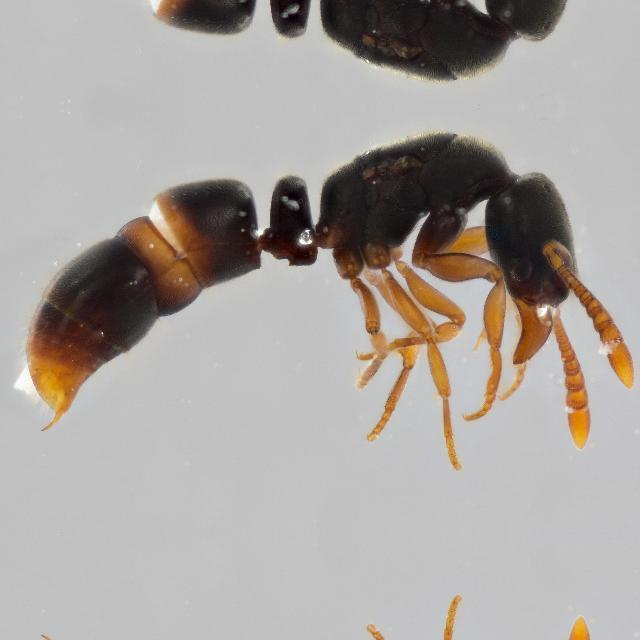Ponera: (15, 106, 640, 444), (14, 0, 638, 106)
